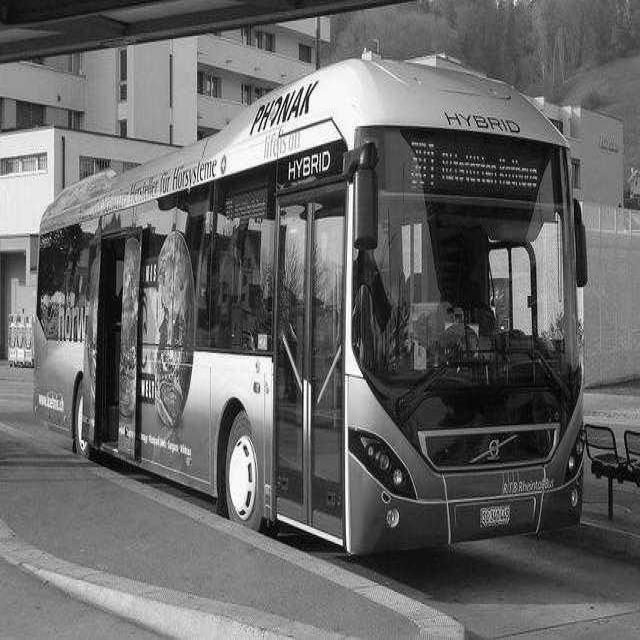Bus: (25, 44, 593, 557)
